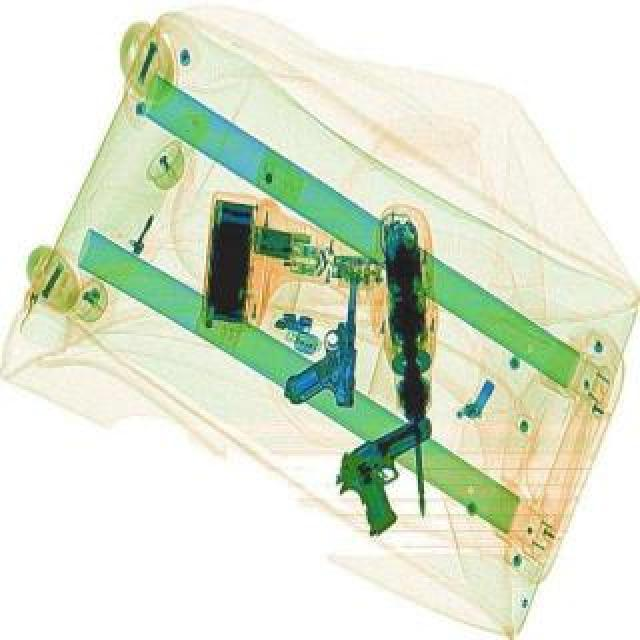gun: (320, 410, 468, 540), (282, 266, 366, 408)
